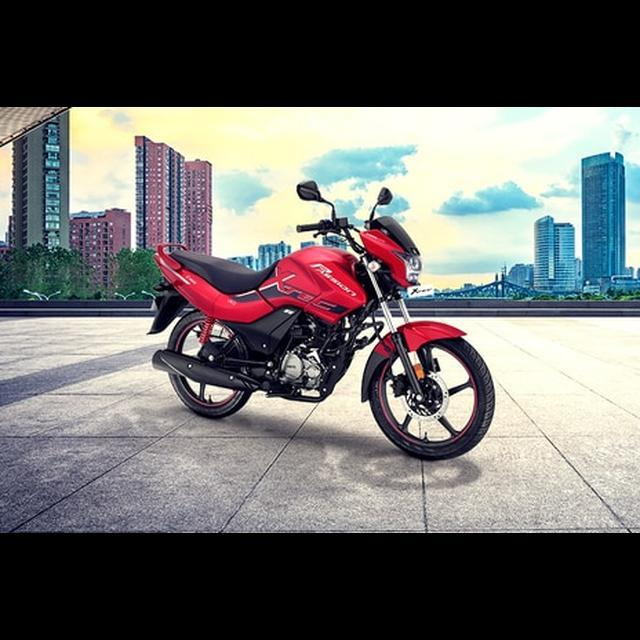motorcycle: (137, 175, 499, 467)
